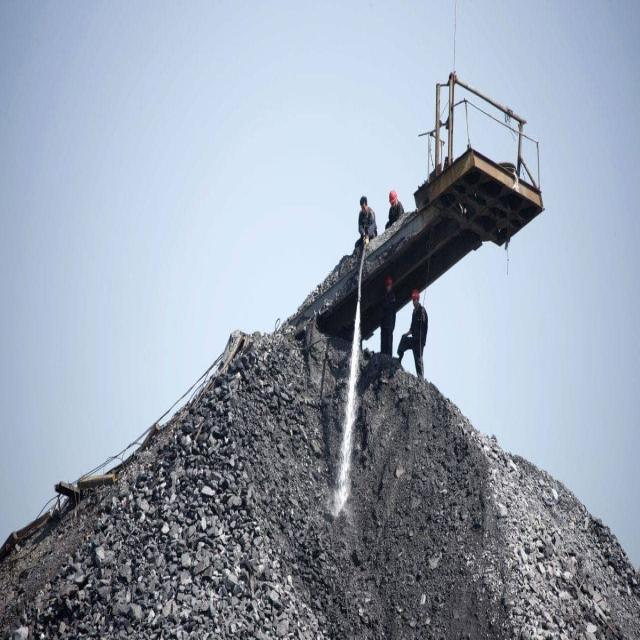person: (402, 292, 428, 376), (379, 275, 396, 352), (358, 181, 378, 243), (388, 187, 403, 222)
safety_helmet: (389, 192, 399, 205), (412, 292, 422, 302), (386, 276, 392, 283)
